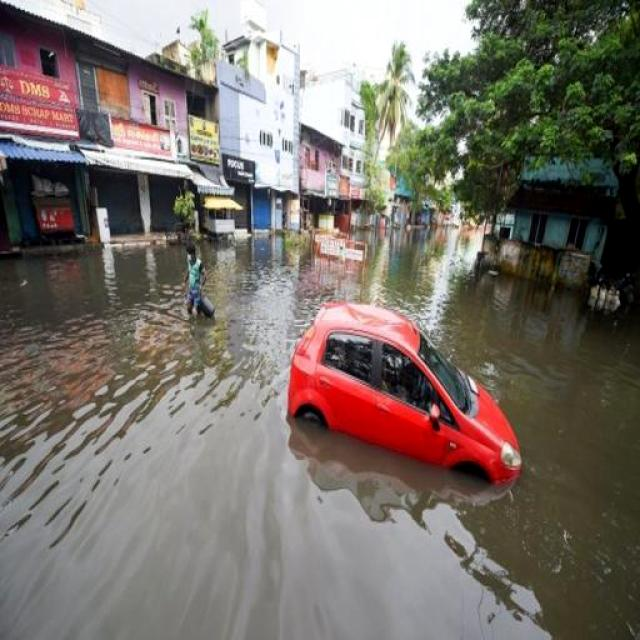civilian: (159, 220, 229, 331)
